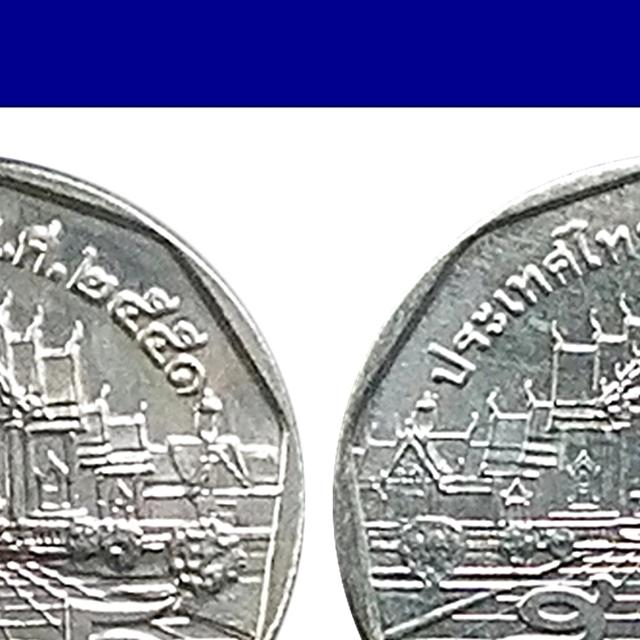5-baht: (328, 167, 640, 640), (0, 149, 299, 640)
